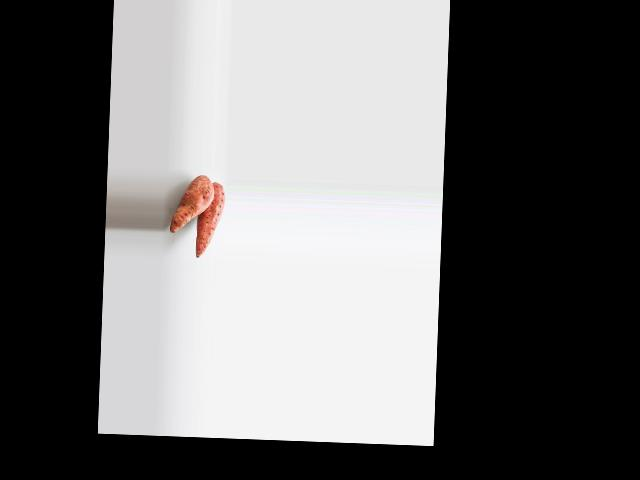sweet_potato: (195, 182, 224, 253)
